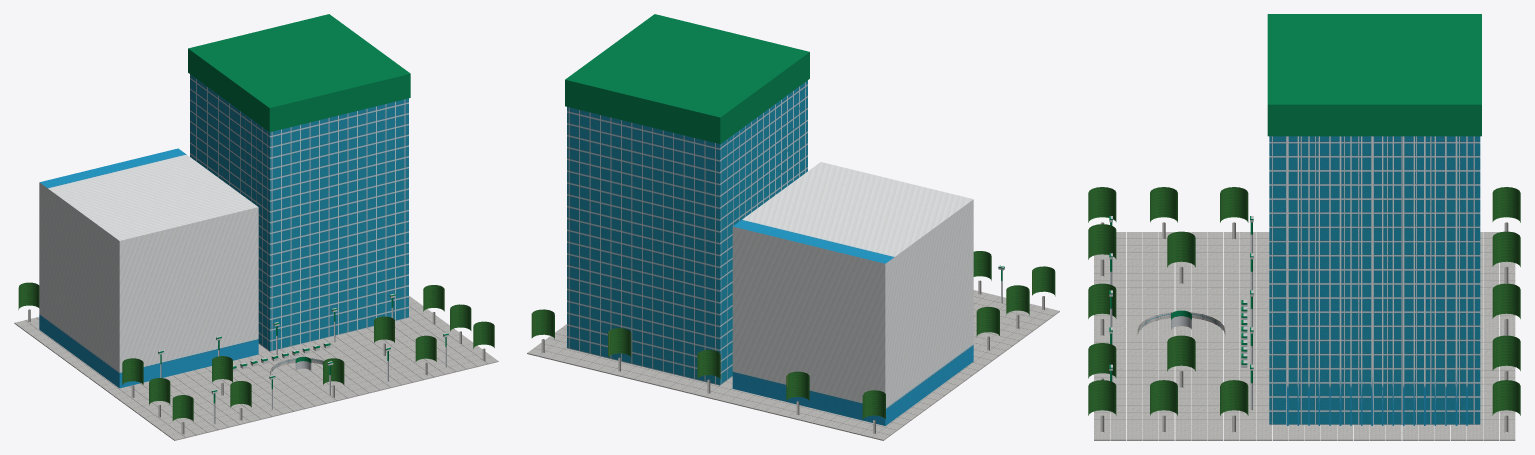
The picture shows the model from 3 angles, left to right: view 1: azimuth 30°, elevation 25°; view 2: azimuth 150°, elevation 25°; view 3: azimuth 270°, elevation 25°; orthographic projection. The views are drawn at different scales.
Parts seen in each view (by area): view 1: 28185_B31_Celltrion_Global_RND_Plant; view 2: 28185_B31_Celltrion_Global_RND_Plant; view 3: 28185_B31_Celltrion_Global_RND_Plant.
Part boxes in pixels (x1,y1,x2,y2): 28185_B31_Celltrion_Global_RND_Plant: [14, 14, 498, 440]; 28185_B31_Celltrion_Global_RND_Plant: [527, 14, 1059, 440]; 28185_B31_Celltrion_Global_RND_Plant: [1088, 14, 1520, 440].
Bounding box in the file's own units: 55.95 × 40.5 × 49.2.
Materials: 1 (1 with a texture image).
